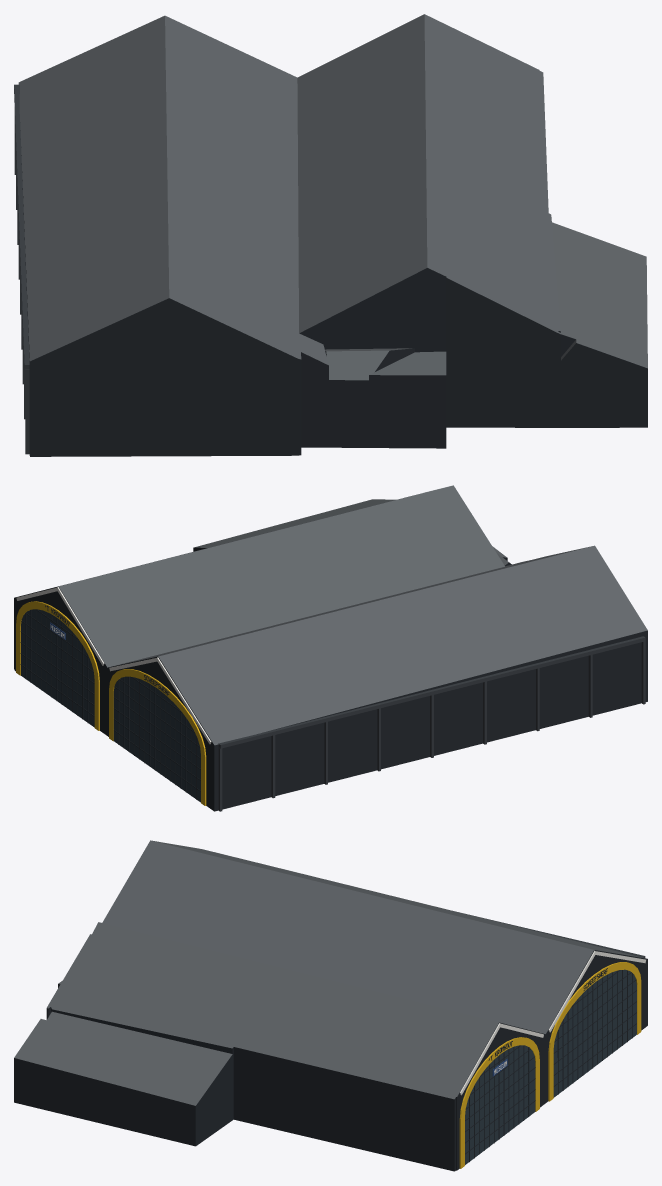
File: werf-kromhout.glb
3 renders of one model, top to bottom at view 1: azimuth 30°, elevation 25°; view 2: azimuth 150°, elevation 25°; view 3: azimuth 270°, elevation 25°, orthographic. The views are drawn at different scales.
Parts seen in each view (by area): view 1: werf-kromhout; view 2: werf-kromhout; view 3: werf-kromhout.
Boxes of the visible parts, x1,y1,x2,y2 form: werf-kromhout: (14, 14, 647, 456); werf-kromhout: (14, 485, 647, 811); werf-kromhout: (14, 840, 647, 1171).
Size of the model in its own units: 58.38 by 13.02 by 62.33.
